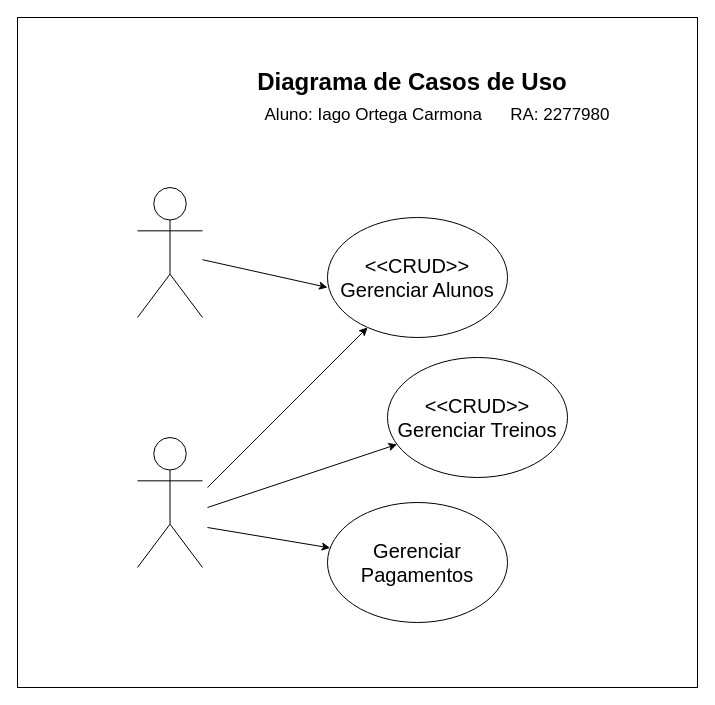
Some shapes in this 715 by 705 pixel diagram are drawn without their labels. Here are the shapes that lost their labels. From the top down, the centre of each, then its label:
At (x=169, y=252): "Aluno".
At (x=169, y=502): "Instutor".
